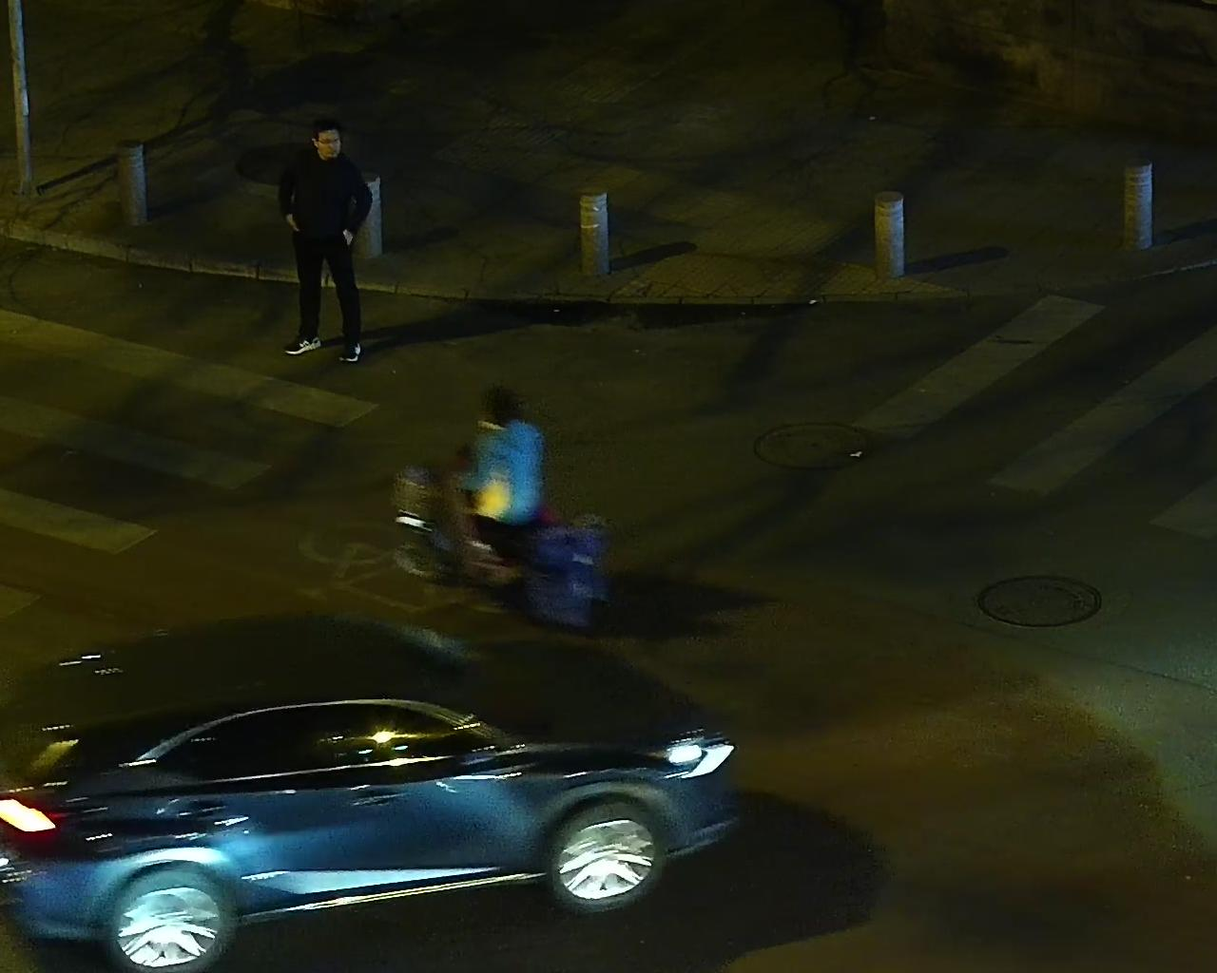person: (274, 111, 376, 375), (444, 382, 537, 574)
